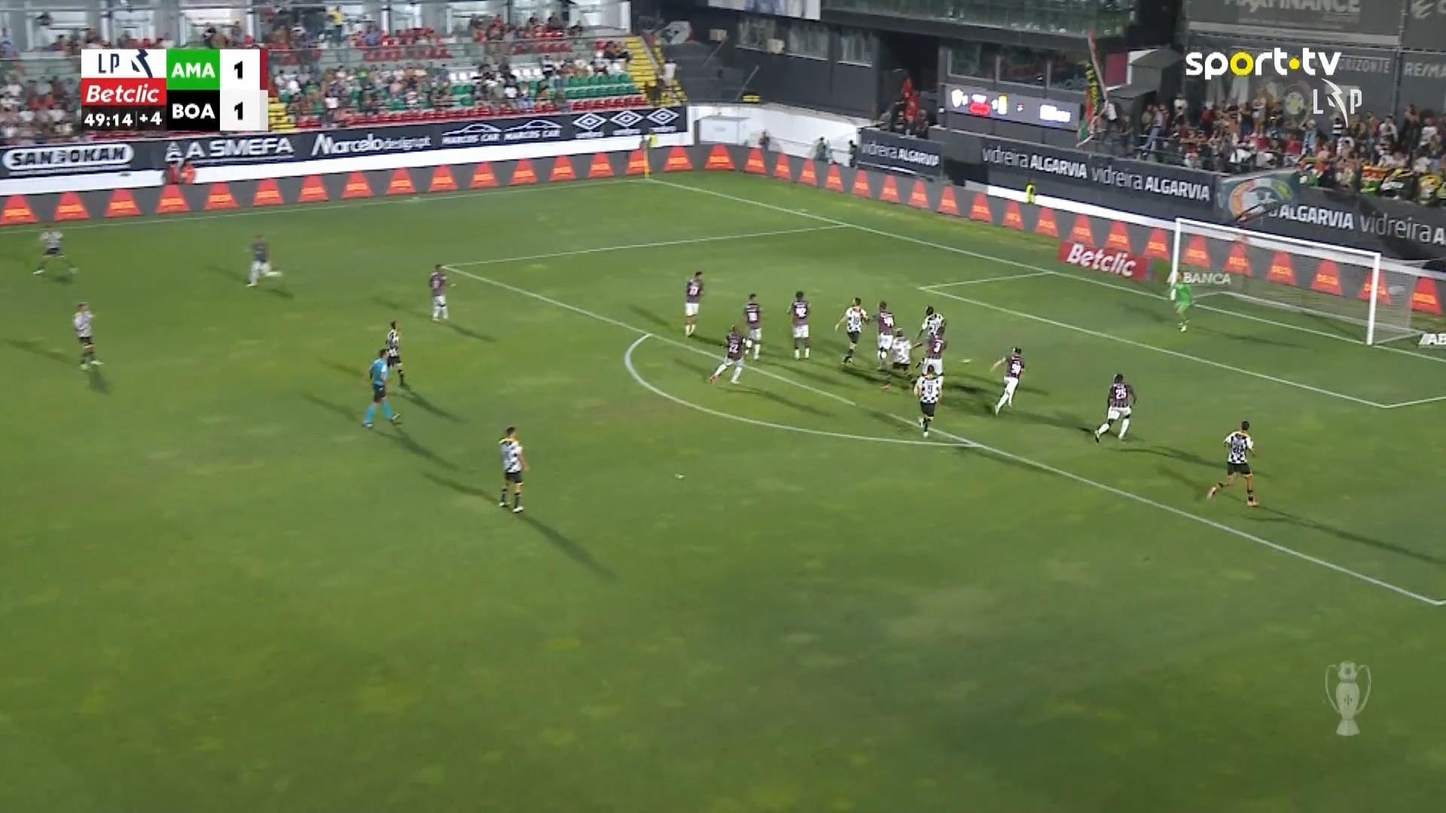ball: (68, 266, 78, 276)
goalkeeper: (1166, 268, 1192, 332)
player: (1206, 419, 1259, 507), (1093, 372, 1136, 443), (496, 425, 528, 513), (911, 304, 947, 379), (988, 346, 1025, 416), (833, 296, 870, 364), (32, 224, 78, 278), (708, 324, 747, 384), (880, 327, 914, 391), (913, 363, 942, 437), (245, 233, 282, 288), (72, 300, 101, 370), (871, 300, 897, 370), (383, 319, 408, 389), (786, 290, 811, 359), (428, 263, 456, 321), (682, 270, 704, 336), (742, 292, 763, 360)
referee: (361, 348, 401, 428)
